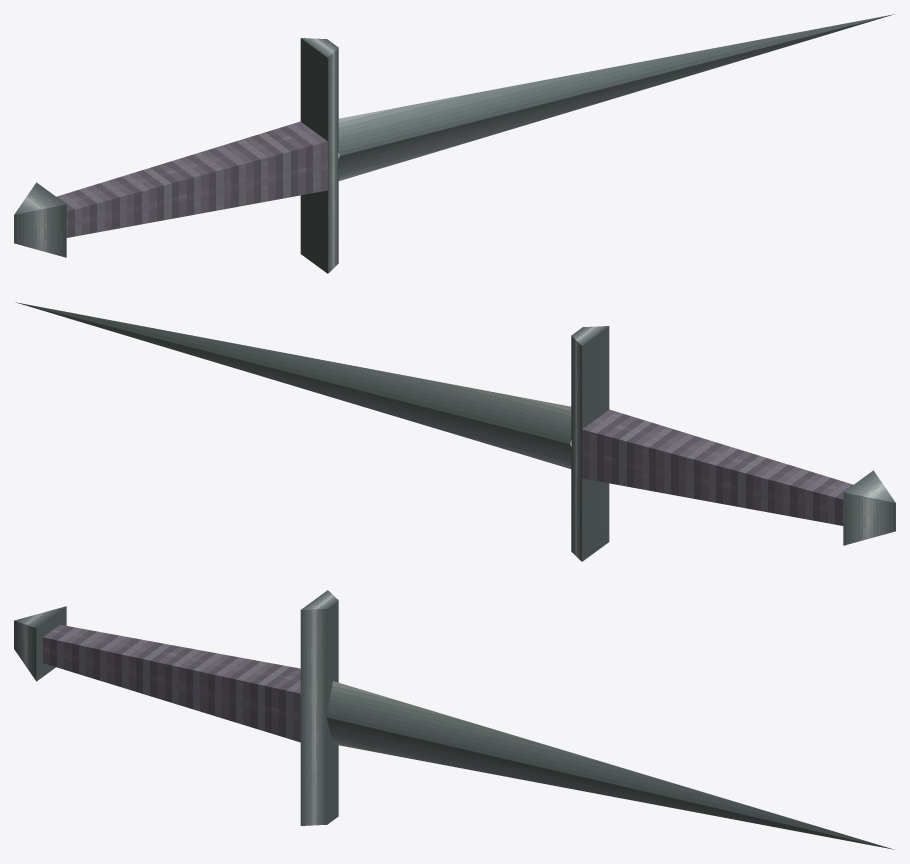
The picture shows the model from 3 angles, top to bottom: view 1: azimuth 30°, elevation 25°; view 2: azimuth 150°, elevation 25°; view 3: azimuth 330°, elevation 25°; orthographic projection.
Parts seen in each view (by area): view 1: it5; view 2: it5; view 3: it5.
Boxes of the visible parts, x1,y1,x2,y2 form: it5: [14, 14, 893, 273]; it5: [16, 302, 895, 561]; it5: [14, 590, 893, 849].
Bounding box in the file's own units: 1.27 × 0.2961 × 0.0748.
Materials: 3 (3 with a texture image).
